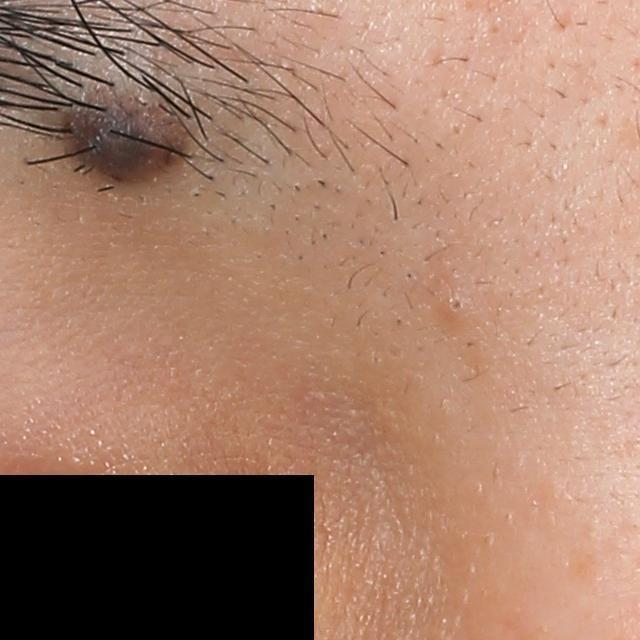nevus: (65, 95, 187, 186)
